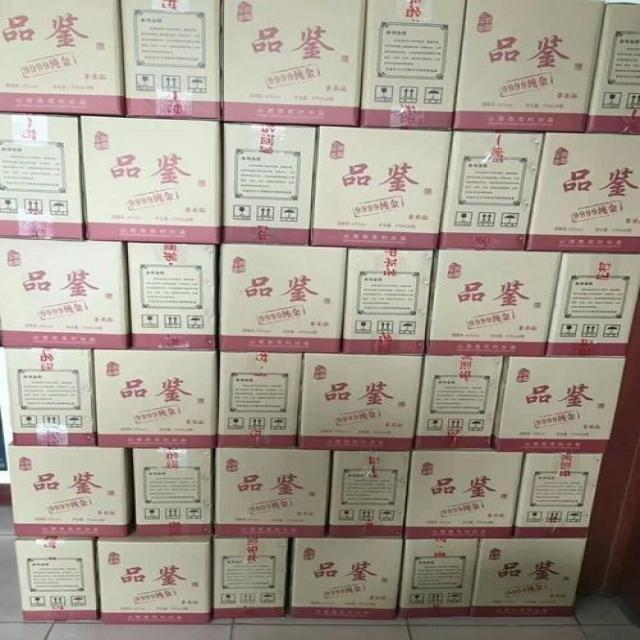box: (451, 0, 605, 132), (81, 114, 223, 245), (221, 0, 366, 127), (311, 125, 453, 251), (425, 250, 564, 357), (0, 239, 134, 348), (218, 242, 348, 353), (0, 0, 125, 115), (526, 130, 640, 254), (360, 0, 466, 130), (489, 356, 627, 454), (92, 348, 218, 449), (438, 130, 544, 250), (298, 353, 425, 452), (118, 0, 221, 119), (220, 121, 316, 246), (9, 444, 134, 536), (95, 527, 212, 624), (0, 111, 87, 240), (212, 449, 333, 538), (403, 451, 524, 540), (544, 249, 640, 358), (339, 249, 434, 355), (127, 241, 220, 349), (1, 344, 95, 448), (467, 536, 588, 616), (289, 538, 403, 620), (215, 349, 303, 449), (413, 355, 504, 451), (513, 453, 603, 539), (325, 450, 411, 538), (585, 1, 640, 134), (132, 448, 214, 537), (15, 535, 97, 622), (397, 538, 479, 618), (211, 538, 288, 618)
